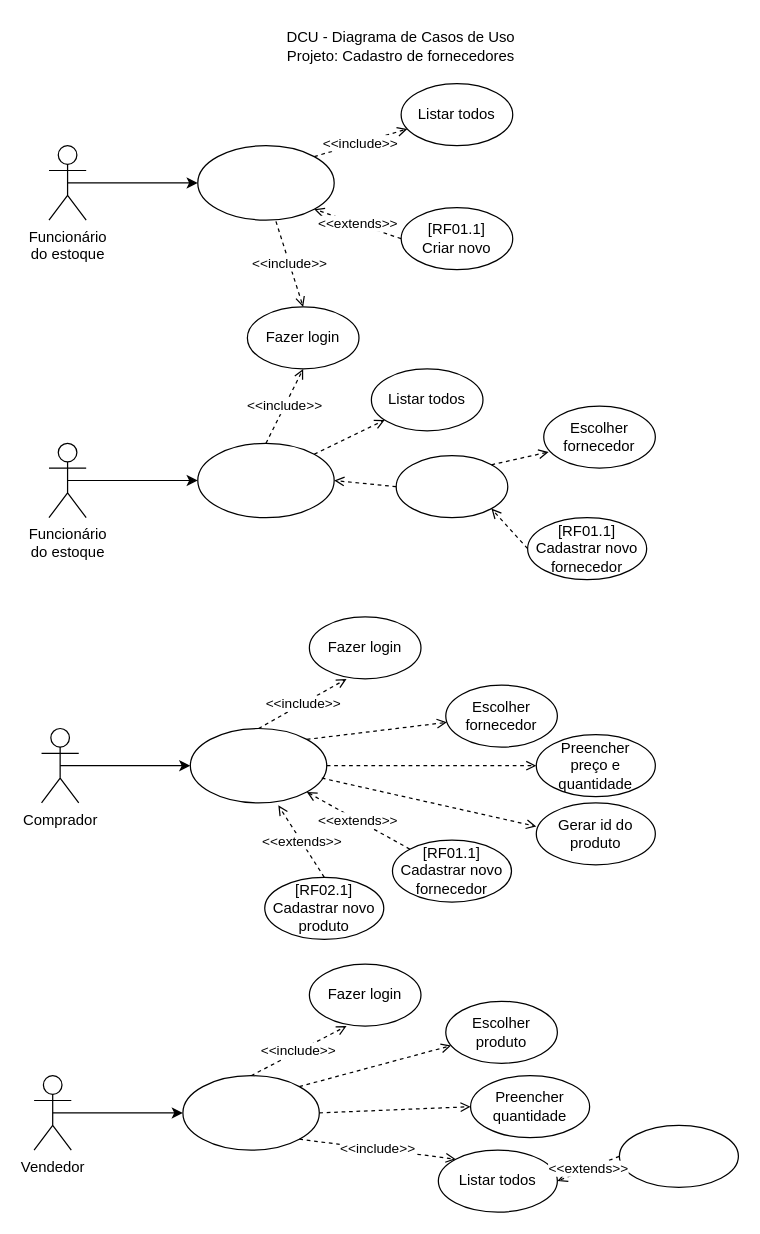
The diagram is 760 pixels wide and 1234 high, and some of its shapes have lost their labels. The centre of each missing label's shape, as x and y in pixels:
[RF01] Cadastrar fornecedores: [265,182]
[RF02.1] Criar novo: [451,486]
[RF02] Cadastrar produtos: [265,480]
[RF03] Cadastrar compra: [258,765]
[RF04] Registrar retirada: [250,1112]
Filtrar por nome, ou id: [678,1155]
